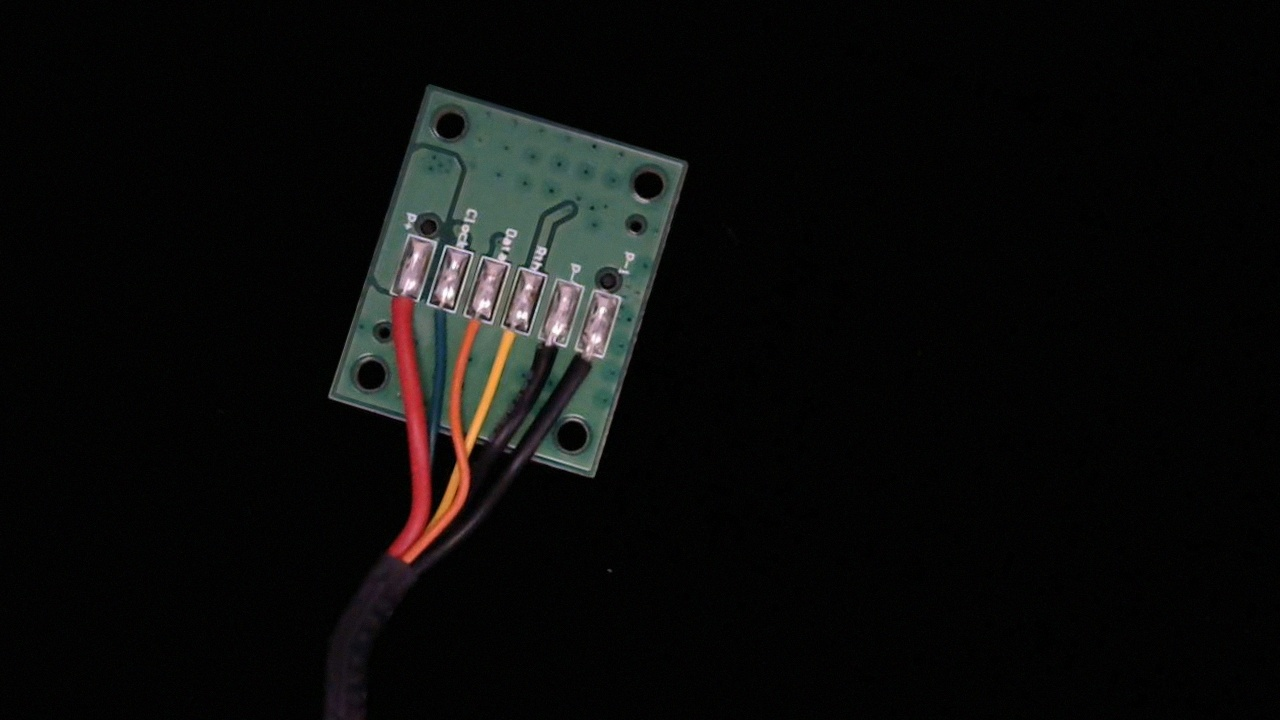Black: (517, 322, 571, 402)
Black1: (558, 333, 610, 407)
Green: (412, 285, 465, 362)
Orange: (448, 298, 500, 376)
Red: (371, 278, 425, 355)
Yellow: (483, 309, 537, 390)
